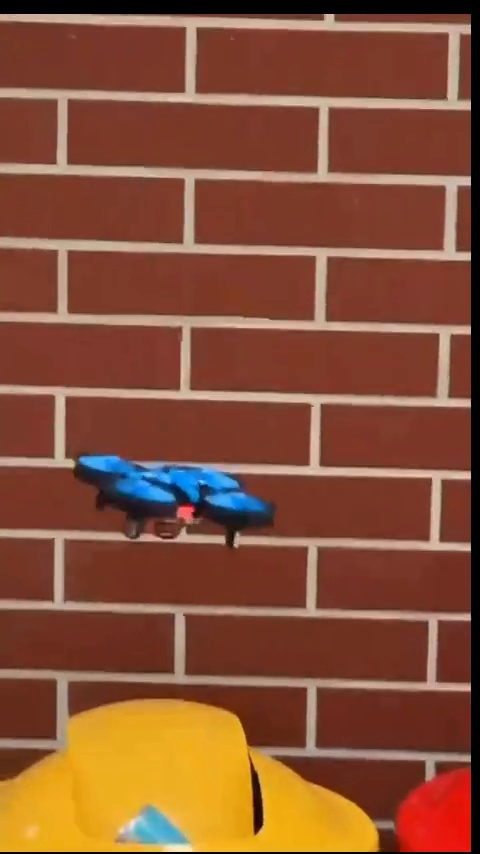drone: (77, 458, 277, 550)
